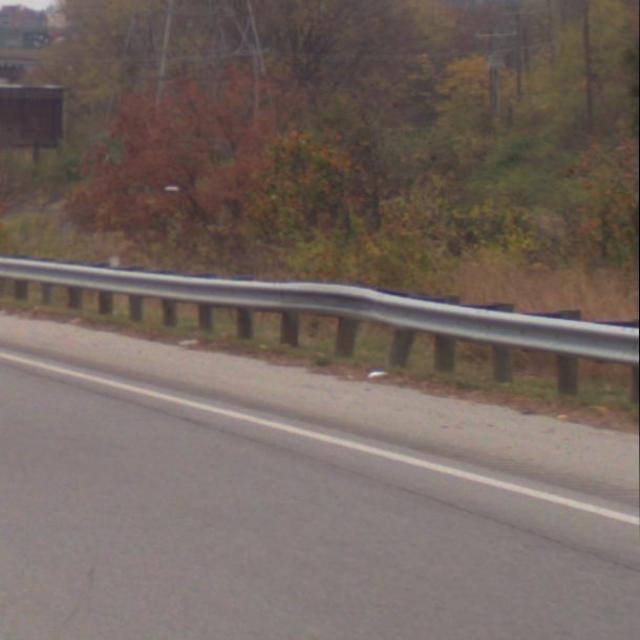Guard rail: (3, 347, 640, 526), (0, 252, 640, 411)
